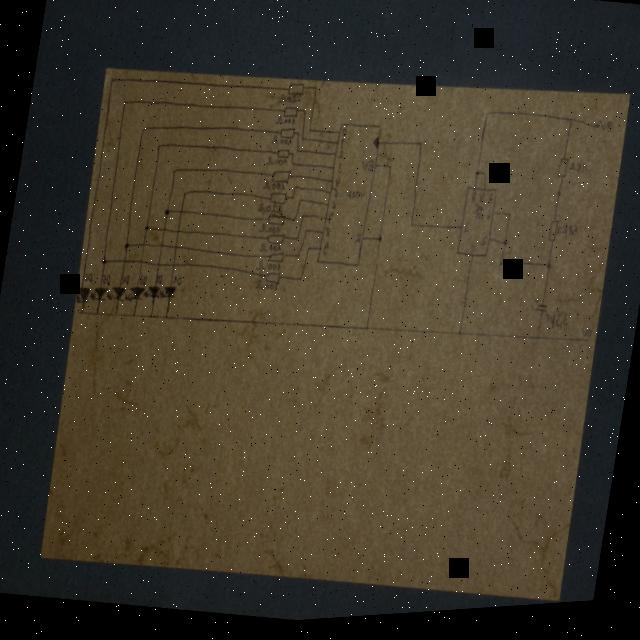capacitor: (532, 304, 550, 321)
crossover: (170, 262, 178, 272), (178, 209, 186, 218), (159, 243, 166, 253), (156, 262, 163, 271), (140, 242, 147, 251), (175, 229, 182, 238), (161, 227, 168, 236), (173, 245, 180, 253), (122, 259, 128, 268), (140, 260, 145, 268)
diode: (125, 285, 146, 305), (75, 286, 92, 307), (159, 285, 178, 302), (108, 286, 126, 303), (90, 286, 108, 303), (144, 286, 162, 302)
junction: (163, 207, 173, 220), (501, 244, 510, 256), (144, 224, 152, 235), (123, 242, 131, 253), (546, 268, 554, 278), (484, 116, 492, 125), (474, 175, 482, 184), (376, 239, 384, 248), (140, 127, 148, 136), (130, 313, 138, 322), (482, 174, 489, 184), (102, 257, 109, 267), (113, 310, 120, 320), (568, 123, 575, 132), (182, 192, 189, 201), (78, 308, 85, 317), (95, 310, 102, 319), (148, 313, 155, 322), (498, 266, 505, 274), (122, 100, 129, 108), (172, 169, 179, 177), (163, 315, 170, 323), (458, 334, 464, 343), (536, 340, 542, 349), (410, 225, 416, 234), (418, 146, 424, 155), (156, 144, 162, 153), (110, 76, 116, 84), (304, 231, 310, 239), (388, 169, 394, 176), (364, 329, 370, 336), (308, 130, 314, 137), (298, 280, 304, 287), (306, 249, 312, 256), (301, 138, 306, 146), (291, 163, 296, 171), (508, 218, 512, 227), (303, 111, 308, 118), (296, 151, 301, 158), (299, 201, 304, 208), (301, 217, 306, 224), (297, 255, 302, 262), (314, 88, 318, 96), (294, 188, 298, 195), (292, 197, 296, 204), (294, 219, 298, 226), (296, 239, 300, 246), (297, 135, 301, 139), (292, 156, 296, 160)
resistor: (546, 223, 562, 252), (557, 162, 571, 188), (272, 170, 292, 188), (267, 252, 288, 269), (267, 234, 288, 250), (269, 193, 289, 209), (268, 215, 288, 231), (264, 273, 284, 289), (288, 83, 306, 100), (279, 128, 297, 143), (283, 108, 300, 123), (278, 150, 292, 163)
terminal: (594, 129, 601, 138), (585, 345, 592, 353)
text: (545, 316, 570, 338), (256, 261, 283, 278), (556, 229, 580, 247), (258, 204, 283, 219), (262, 181, 287, 196), (568, 167, 590, 183), (266, 157, 289, 172), (275, 117, 298, 132), (279, 95, 302, 110), (258, 225, 282, 239), (256, 282, 279, 296), (271, 137, 294, 151), (347, 191, 367, 207), (260, 244, 282, 258), (472, 209, 488, 228), (599, 127, 615, 142), (361, 163, 376, 178), (580, 334, 594, 347), (122, 275, 132, 289), (139, 274, 149, 288), (101, 275, 112, 287), (480, 240, 490, 253), (322, 245, 330, 261), (173, 277, 184, 288), (84, 272, 94, 284), (479, 196, 487, 210), (464, 227, 472, 240), (324, 230, 332, 243), (327, 216, 335, 229), (330, 203, 338, 216), (336, 166, 344, 179), (156, 275, 164, 287), (488, 198, 496, 210), (334, 181, 342, 193), (471, 196, 478, 209), (470, 249, 478, 260), (332, 191, 340, 202), (355, 238, 362, 249), (338, 153, 344, 165), (487, 215, 493, 226), (340, 142, 346, 153), (342, 131, 348, 142)
